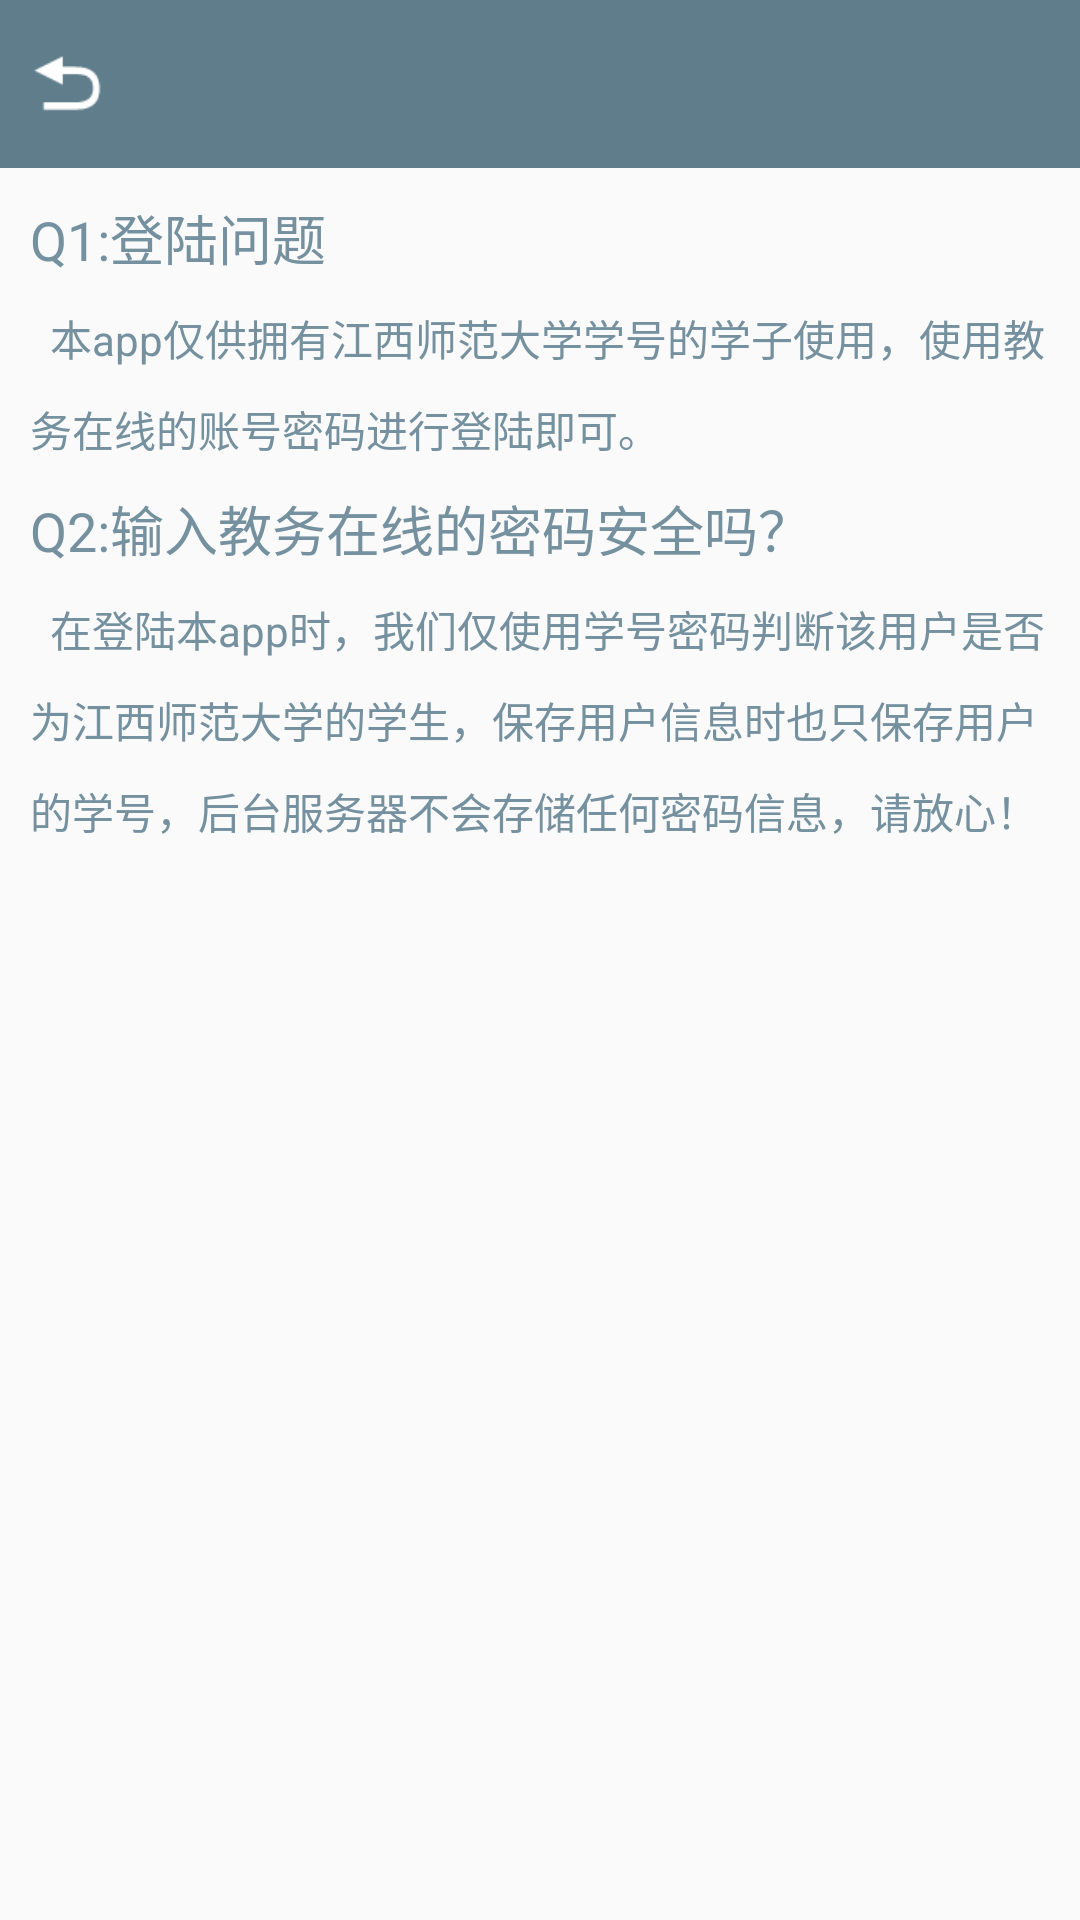

Where to tap for icons on this 1080x1920 app screen, as (x=x, y=y):
back: (x=67, y=83)
